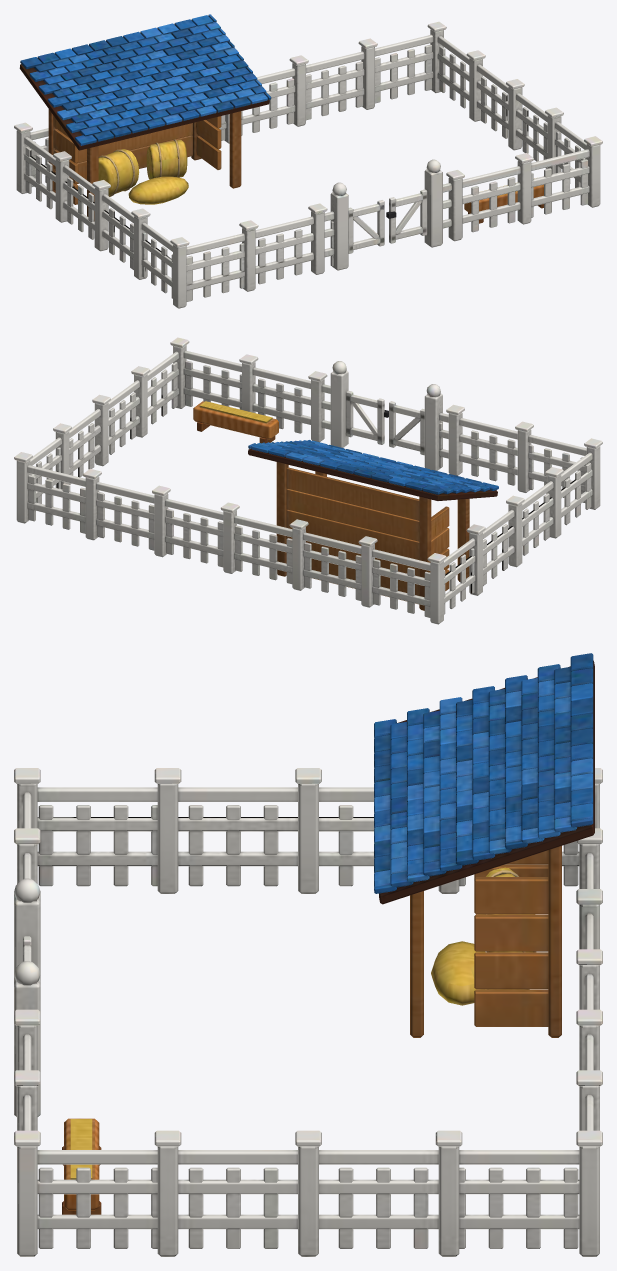
The model's file is sheepfold.glb.
3 renders of one model, top to bottom at view 1: azimuth 30°, elevation 25°; view 2: azimuth 150°, elevation 25°; view 3: azimuth 270°, elevation 25°, orthographic. The views are drawn at different scales.
Visible parts, largest first — view 1: sheepfold, gate1, gate0; view 2: sheepfold, gate1, gate0; view 3: sheepfold.
Part boxes in pixels (x1,y1,x2,y2): sheepfold: (14,14,602,308); gate1: (386,189,427,243); gate0: (348,200,384,253); sheepfold: (14,337,602,624); gate1: (346,390,388,444); gate0: (389,401,424,455); sheepfold: (14,653,602,1256).
Size of the model in its own units: 2.99 by 0.9342 by 1.99.
1 material, 1 textured.
